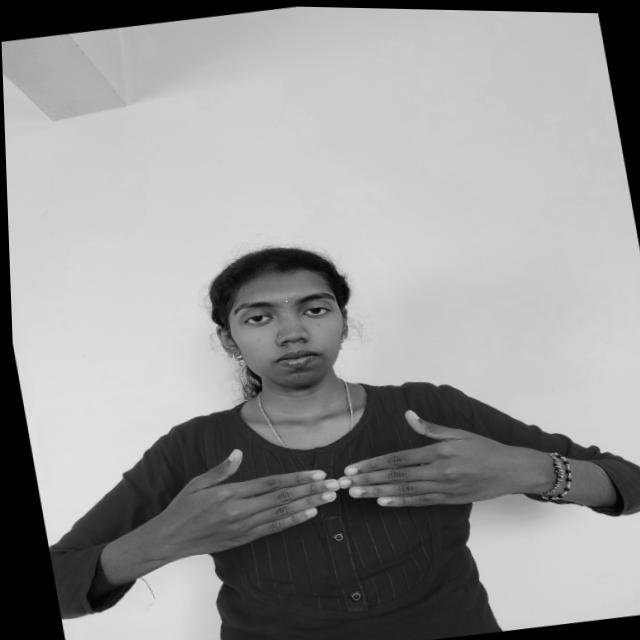Night: (120, 380, 545, 579)
